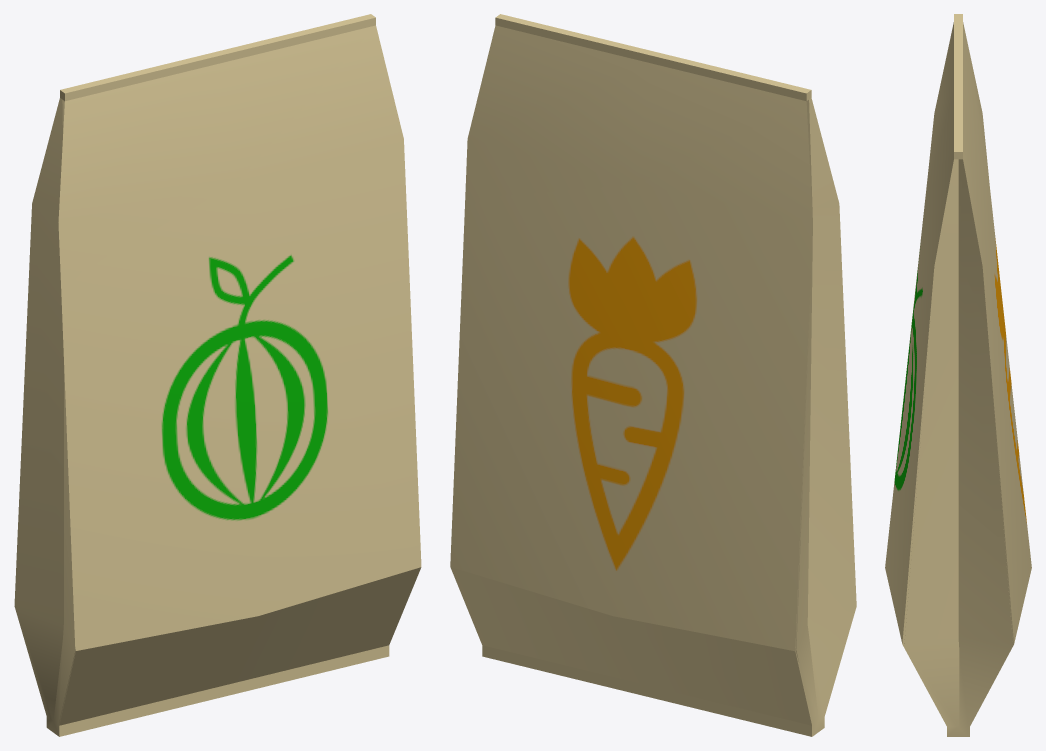
File: Seeds.fbx
3 renders of one model, left to right at view 1: azimuth 30°, elevation 25°; view 2: azimuth 150°, elevation 25°; view 3: azimuth 270°, elevation 25°, orthographic. The views are drawn at different scales.
Visible parts, largest first — view 1: Seed, Seed.001, Seed.002, Seed.004; view 2: Seed.001, Seed.004, Seed.002, Seed; view 3: Seed.001, Seed, Seed.004, Seed.003.
Part boxes in pixels (x1,y1,x2,y2): Seed: (58, 14, 421, 736); Seed.001: (14, 17, 375, 727); Seed.002: (15, 165, 257, 720); Seed.004: (17, 90, 75, 736); Seed.001: (450, 102, 855, 736); Seed.004: (464, 17, 856, 735); Seed.002: (796, 507, 818, 719); Seed: (496, 14, 810, 93); Seed.001: (904, 22, 1031, 736); Seed: (885, 14, 1012, 736); Seed.004: (963, 22, 990, 329); Seed.003: (902, 430, 1012, 657).
Bounding box in the file's own units: 25 × 10.12 × 44.16.
